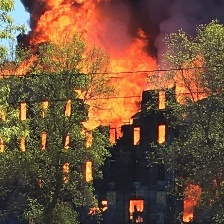fire: (26, 1, 146, 127), (1, 60, 221, 104), (173, 184, 207, 222), (129, 196, 146, 224)
smoke: (133, 1, 224, 57), (15, 1, 42, 56)
